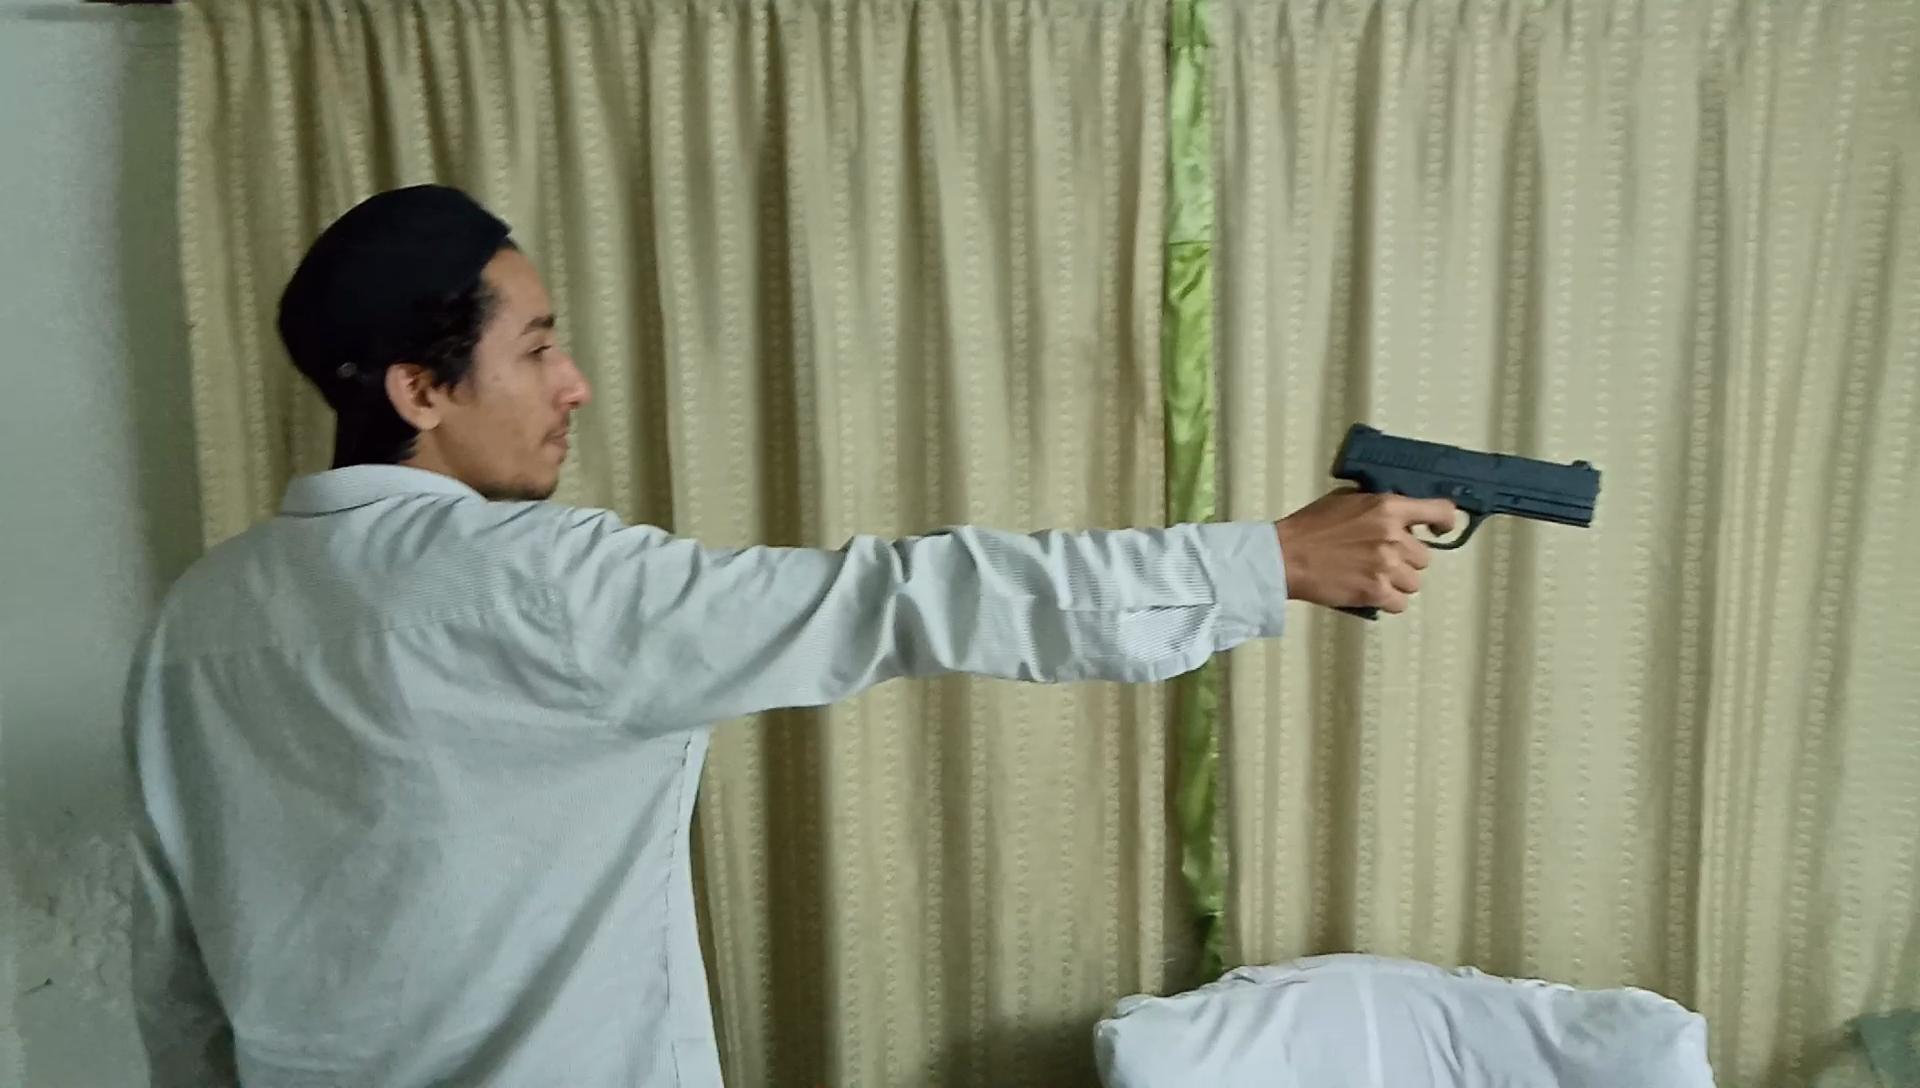criminal: (119, 178, 1607, 1088)
weapon: (1303, 423, 1611, 626)
